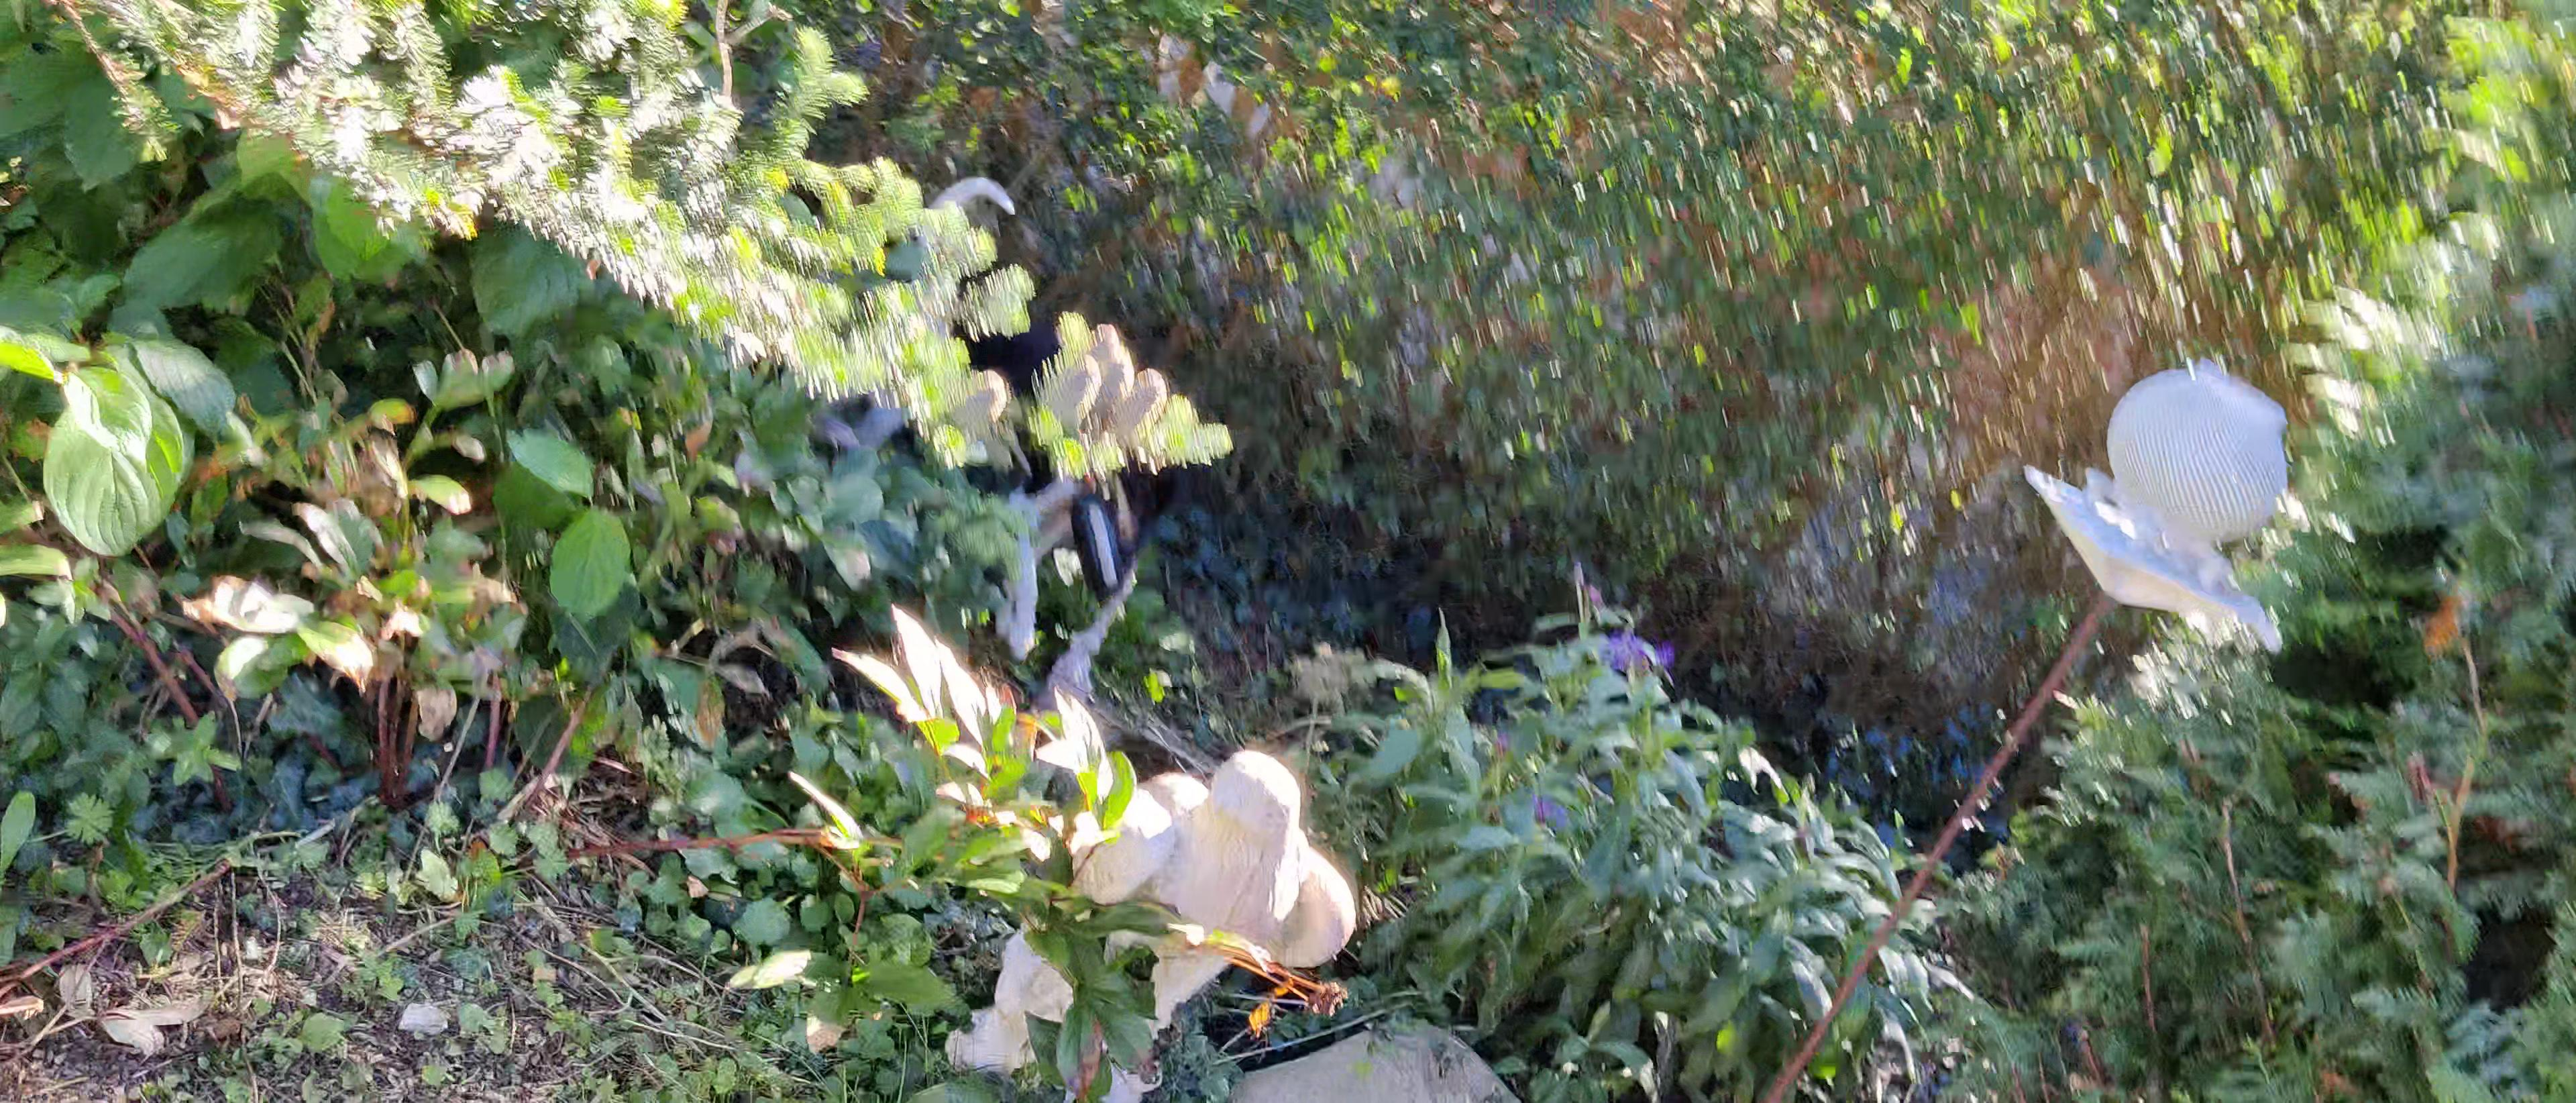Dog: (849, 176, 1188, 664)
